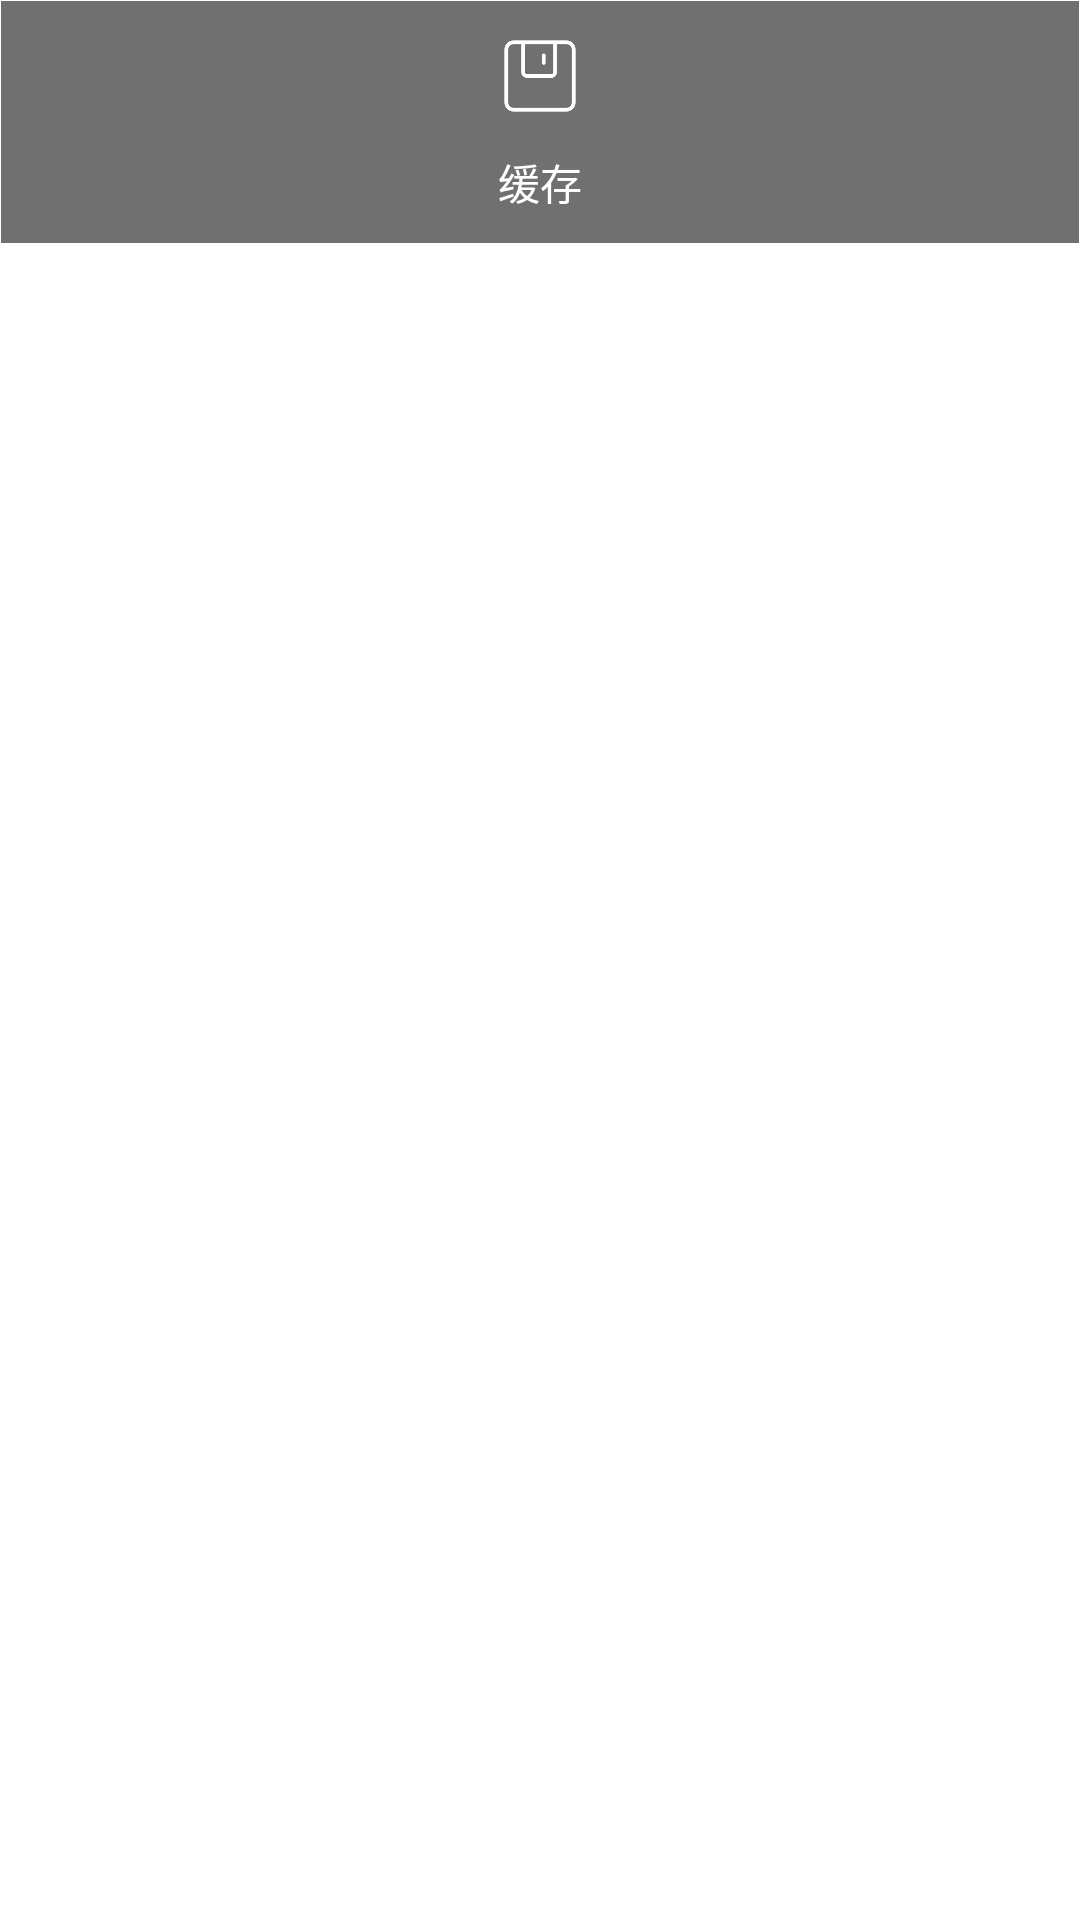

Icon click points for this 1080px×1920px phone screenshot, format (x,y):
cache module: (540,76)
